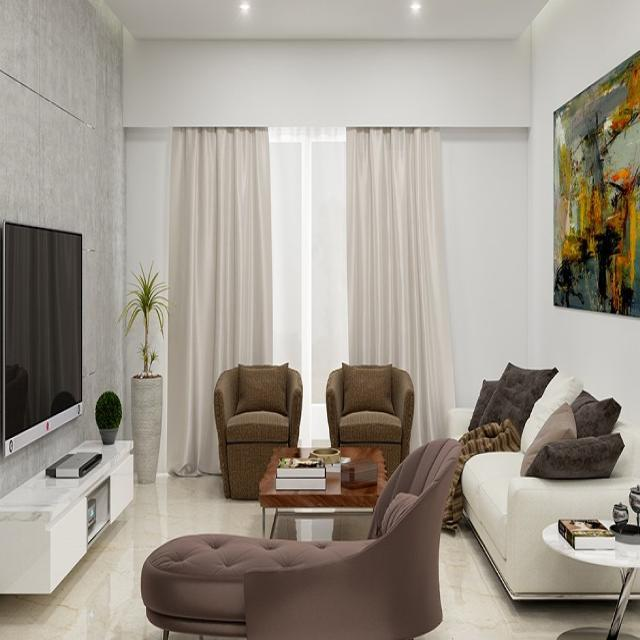Monitor: (0, 203, 92, 456)
sofa: (140, 430, 462, 640), (444, 388, 640, 635), (216, 345, 304, 506), (322, 350, 391, 494)
